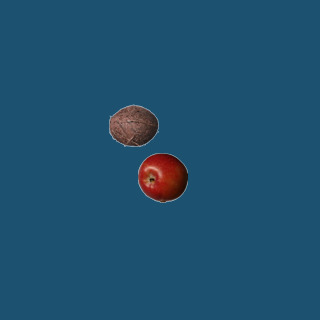Apple Braeburn: (137, 152, 187, 202)
Cocos: (108, 100, 158, 150)
